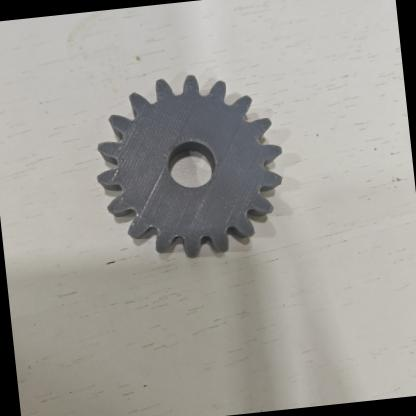gear: (88, 66, 292, 266)
